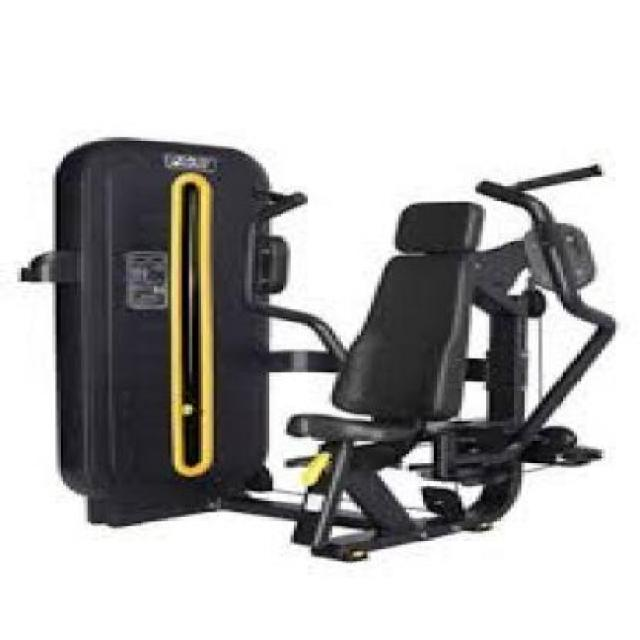chest fly machine: (11, 97, 640, 601)
